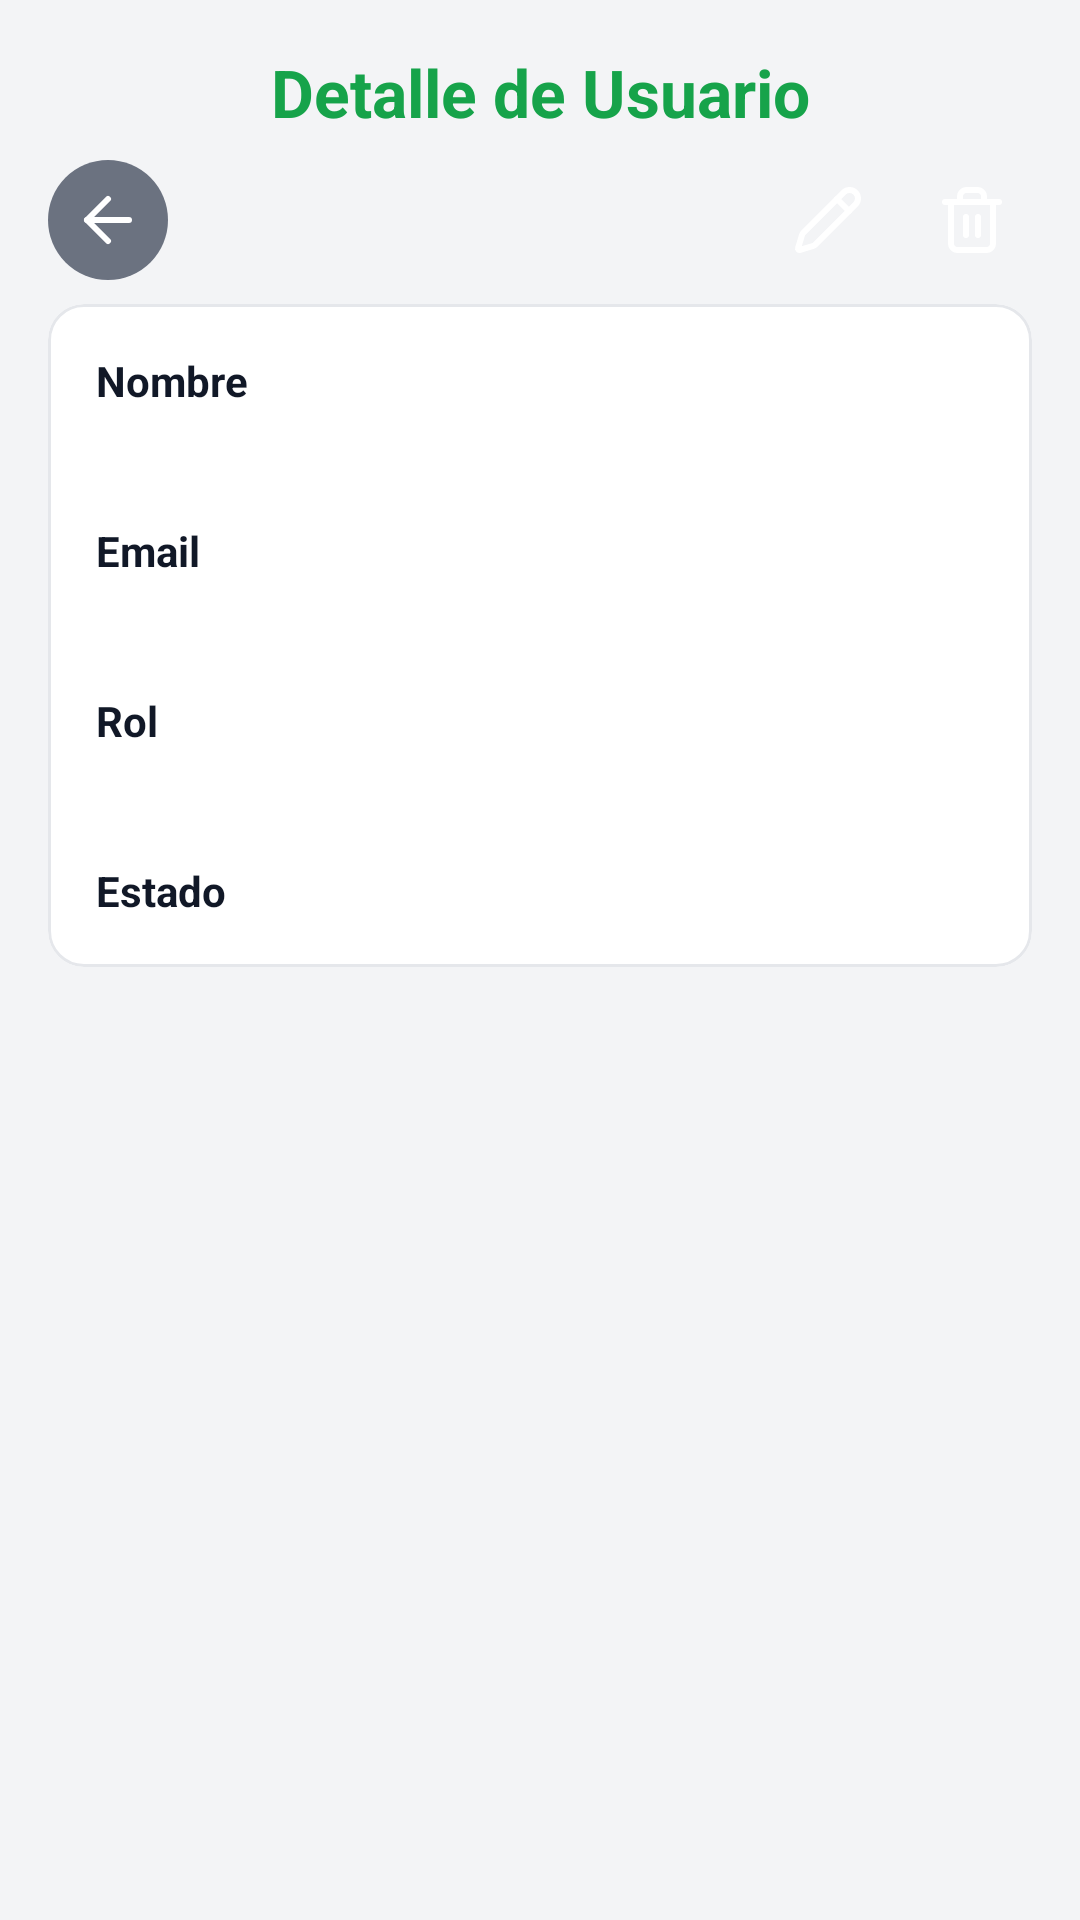

Where icons sit on this 1080×1920 app screen, as rect(x1, y1, x2, y2):
Volver: rect(48, 160, 168, 280)
